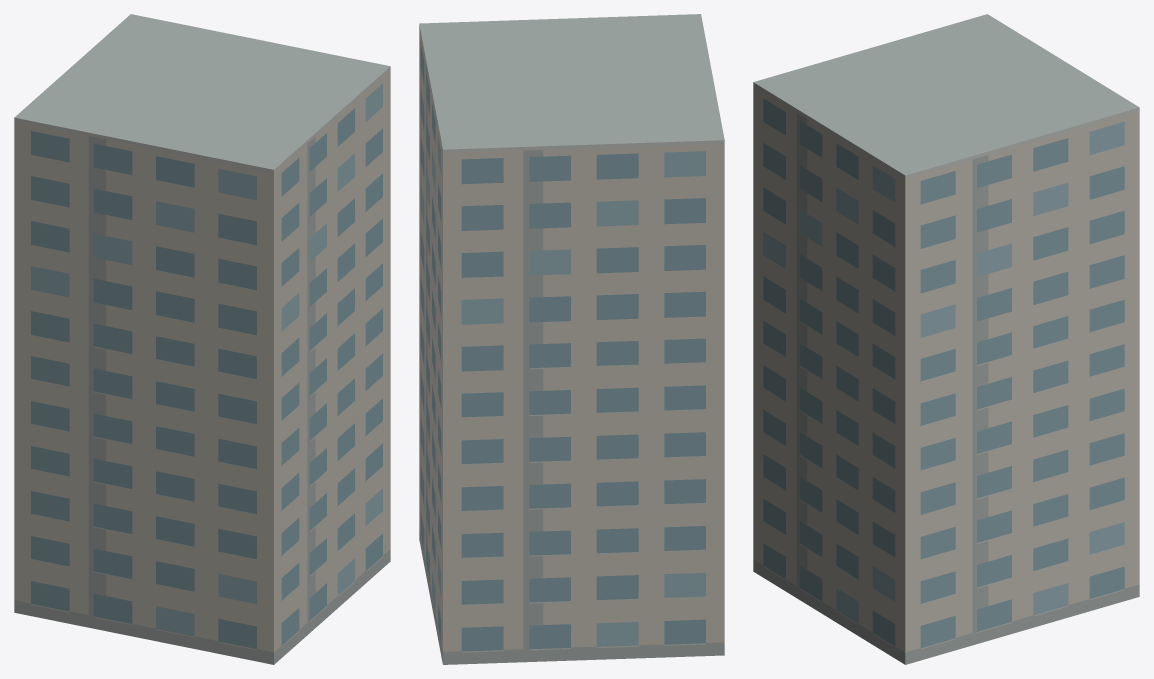
Rendered from residential-b6942aba-0ae4-4831-be4d-1ae28dedae46.glb.
3 renders of one model, left to right at view 1: azimuth 30°, elevation 25°; view 2: azimuth 150°, elevation 25°; view 3: azimuth 270°, elevation 25°, orthographic. The views are drawn at different scales.
Parts seen in each view (by area): view 1: residential-b6942aba-0ae4-4831-be4d-1ae28dedae46.tmp; view 2: residential-b6942aba-0ae4-4831-be4d-1ae28dedae46.tmp; view 3: residential-b6942aba-0ae4-4831-be4d-1ae28dedae46.tmp.
Boxes of the visible parts, left/top/right/bottom form: residential-b6942aba-0ae4-4831-be4d-1ae28dedae46.tmp: left=14, top=14, right=390, bottom=664; residential-b6942aba-0ae4-4831-be4d-1ae28dedae46.tmp: left=419, top=14, right=724, bottom=664; residential-b6942aba-0ae4-4831-be4d-1ae28dedae46.tmp: left=753, top=14, right=1139, bottom=664.
Bounding box in the file's own units: 24.08 × 34 × 24.34.
